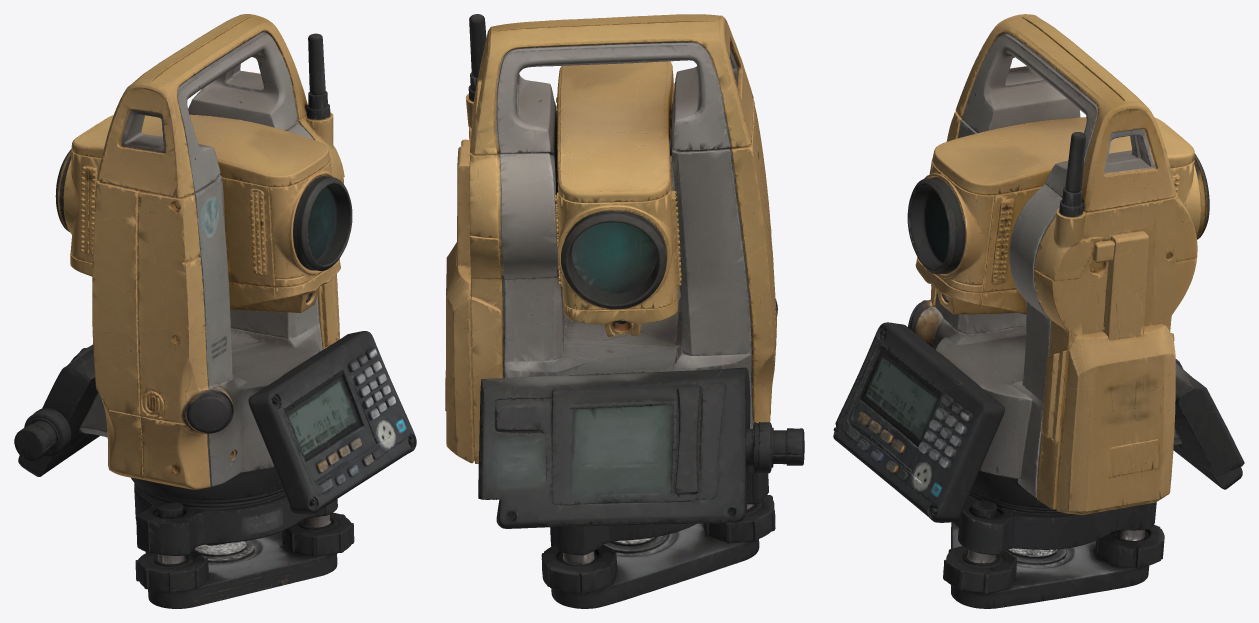
File: login-model.glb
The picture shows the model from 3 angles, left to right: view 1: azimuth 30°, elevation 25°; view 2: azimuth 150°, elevation 25°; view 3: azimuth 270°, elevation 25°; orthographic projection. The views are drawn at different scales.
Parts seen in each view (by area): view 1: tmpaedcxp8wobj; view 2: tmpaedcxp8wobj; view 3: tmpaedcxp8wobj.
Boxes of the visible parts, left/top/right/bottom form: tmpaedcxp8wobj: left=14, top=14, right=416, bottom=608; tmpaedcxp8wobj: left=445, top=14, right=804, bottom=608; tmpaedcxp8wobj: left=833, top=14, right=1244, bottom=608.
Size of the model in its own units: 0.6772 by 1 by 0.7132.
Materials: 1 (1 with a texture image).
